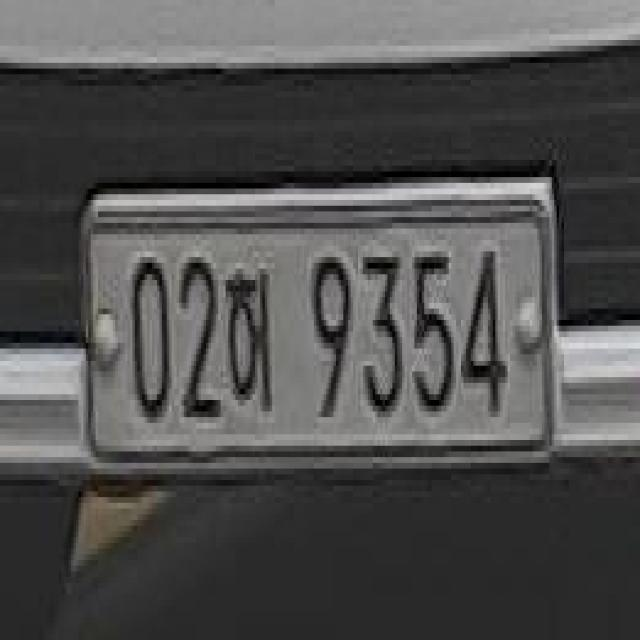illegal_plate: (85, 183, 558, 484)
